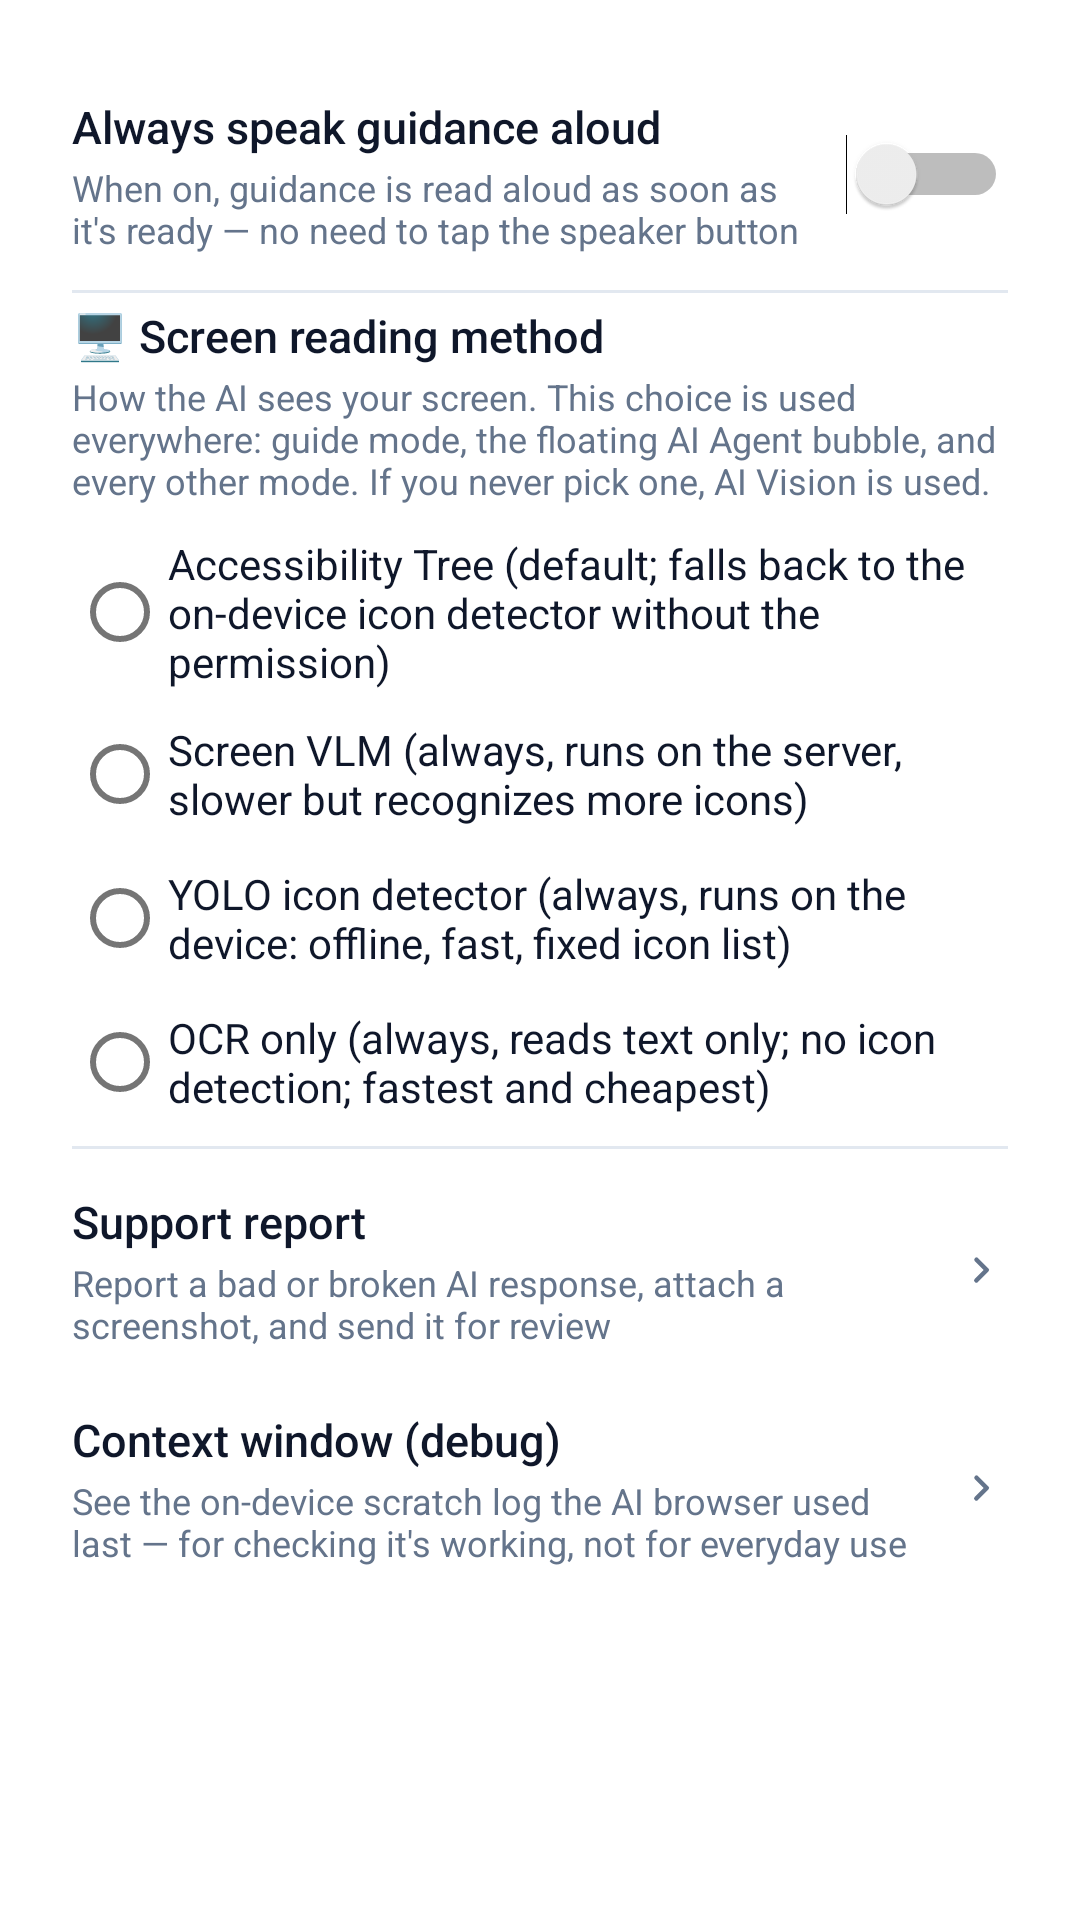

Icons on this 1080x1920 Android screen, each with the point to tap as [x,y]:
chevron right: [981,1270], [981,1488]
